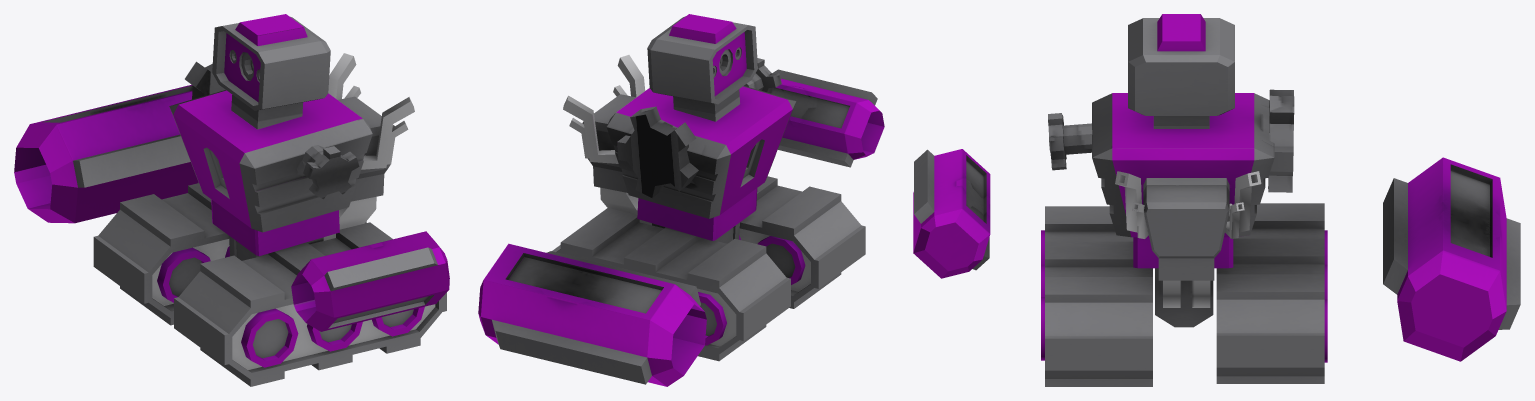
Rendered from Enemy2_Die14.obj.
3 views of the same model, side by side, from view 1: azimuth 30°, elevation 25°; view 2: azimuth 150°, elevation 25°; view 3: azimuth 270°, elevation 25° (orthographic). The views are drawn at different scales.
Visible parts, largest first — view 1: Object006, Object013, Object011, Object014, Object012, Object010, Object008, Object009; view 2: Object006, Object011, Object013, Object012, Object014, Object009, Object010, Object008; view 3: Object006, Object011, Object013, Object010, Object012, Object014, Object009, Object008.
Boxes of the visible parts, left/top/right/bottom form: Object006: left=93, top=183, right=446, bottom=386; Object013: left=169, top=90, right=372, bottom=260; Object011: left=14, top=84, right=198, bottom=223; Object014: left=291, top=231, right=449, bottom=331; Object012: left=212, top=14, right=330, bottom=129; Object010: left=323, top=53, right=414, bottom=240; Object008: left=302, top=145, right=359, bottom=199; Object009: left=185, top=61, right=225, bottom=99; Object006: left=552, top=176, right=865, bottom=361; Object011: left=478, top=243, right=706, bottom=386; Object013: left=606, top=86, right=796, bottom=243; Object012: left=647, top=14, right=757, bottom=121; Object014: left=771, top=69, right=884, bottom=167; Object009: left=617, top=106, right=698, bottom=197; Object010: left=563, top=55, right=651, bottom=225; Object008: left=744, top=58, right=781, bottom=93; Object006: left=1041, top=203, right=1327, bottom=386; Object011: left=1383, top=157, right=1520, bottom=361; Object013: left=1092, top=93, right=1274, bottom=327; Object010: left=1115, top=171, right=1261, bottom=307; Object012: left=1128, top=14, right=1234, bottom=128; Object014: left=913, top=149, right=990, bottom=278; Object009: left=1268, top=89, right=1294, bottom=192; Object008: left=1048, top=113, right=1092, bottom=170.
Size of the model in its own units: 89.52 by 111 by 193.
